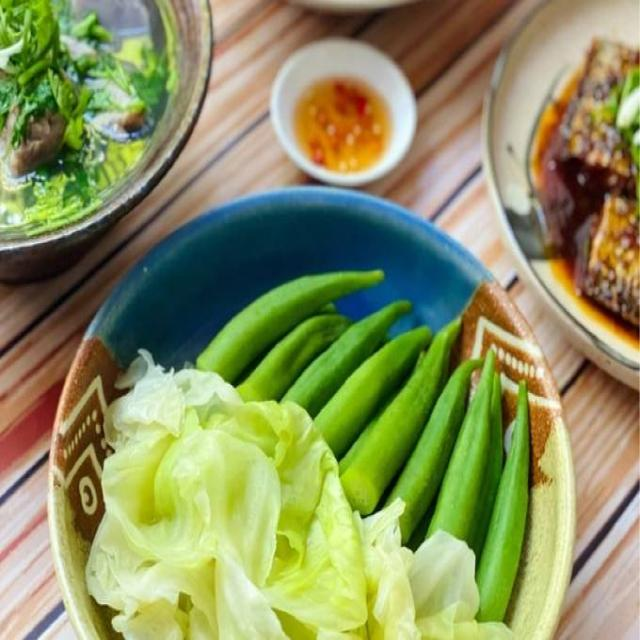bap cai luoc: (86, 351, 513, 639)
dau bap: (196, 271, 529, 620)
nuoc mam: (296, 78, 389, 173)
